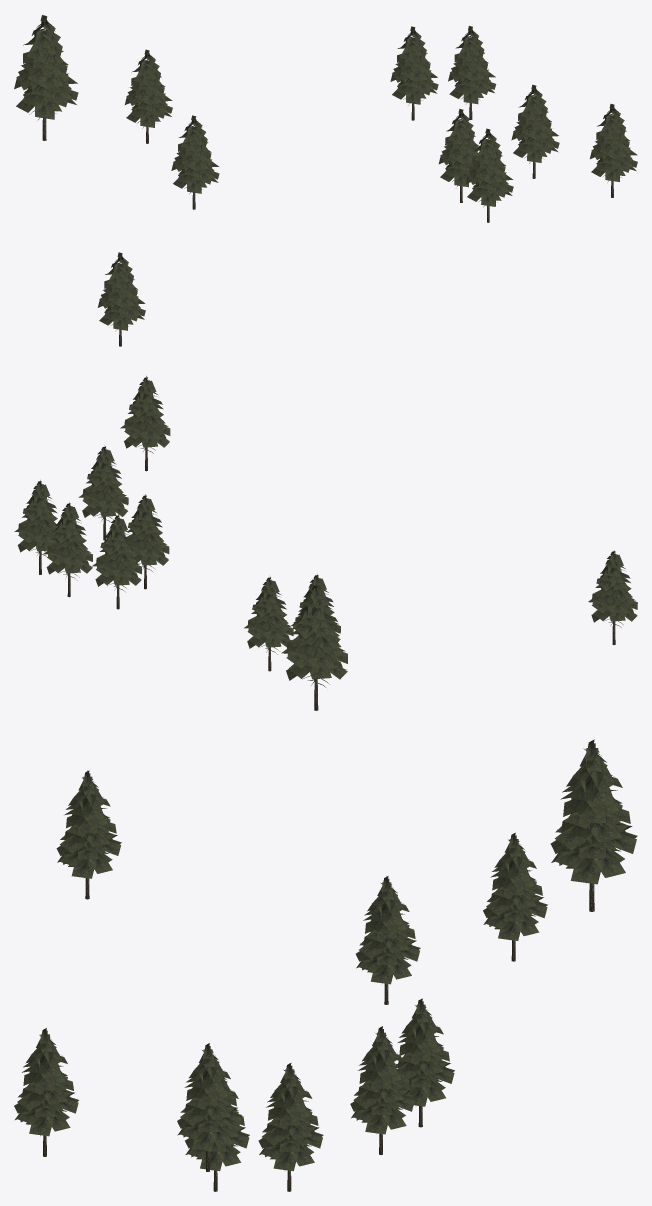
Rendered from Tree 14A.fbx.
The picture shows the model from 3 angles, top to bottom: view 1: azimuth 30°, elevation 25°; view 2: azimuth 150°, elevation 25°; view 3: azimuth 270°, elevation 25°; orthographic projection. The views are drawn at different scales.
Visible parts, largest first — view 1: Tree14A_leafs_1, Tree14A_leafs_6, Tree14A_leafs_2, Tree14A_leafs_7, Tree14A_leafs_5, Tree14A_leafs_9, Tree14A_leafs_3, Tree14A_leafs_4, Tree14A_leafs, Tree14A_leafs_8, Tree14A_leafs_flip_1; view 2: Tree14A_leafs_1, Tree14A_leafs_5, Tree14A_leafs_8, Tree14A_leafs_4, Tree14A_leafs, Tree14A_leafs_7, Tree14A_leafs_2, Tree14A_leafs_6, Tree14A_leafs_9, Tree14A_leafs_flip_1, Tree14A_leafs_3; view 3: Tree14A_leafs_1, Tree14A_leafs_8, Tree14A_leafs_5, Tree14A_leafs_3, Tree14A_leafs_2, Tree14A_leafs, Tree14A_leafs_6, Tree14A_leafs_4, Tree14A_leafs_7, Tree14A_leafs_9, Tree14A_leafs_flip_1, Tree14A_leafs_flip_8 (+5 smaller).
Boxes of the visible parts, x1,y1,x2,y2 form: Tree14A_leafs_1: [14, 15, 78, 119]; Tree14A_leafs_6: [448, 26, 496, 104]; Tree14A_leafs_2: [125, 49, 172, 127]; Tree14A_leafs_7: [390, 26, 438, 104]; Tree14A_leafs_5: [511, 85, 559, 162]; Tree14A_leafs_9: [465, 128, 513, 206]; Tree14A_leafs_3: [171, 115, 219, 193]; Tree14A_leafs_4: [590, 104, 637, 181]; Tree14A_leafs: [97, 252, 145, 330]; Tree14A_leafs_8: [438, 108, 478, 187]; Tree14A_leafs_flip_1: [15, 15, 77, 119]; Tree14A_leafs_1: [281, 587, 347, 680]; Tree14A_leafs_5: [78, 448, 128, 517]; Tree14A_leafs_8: [92, 517, 141, 586]; Tree14A_leafs_4: [120, 379, 170, 448]; Tree14A_leafs: [588, 553, 637, 622]; Tree14A_leafs_7: [43, 505, 92, 574]; Tree14A_leafs_2: [244, 579, 293, 648]; Tree14A_leafs_6: [14, 483, 57, 552]; Tree14A_leafs_9: [127, 497, 169, 565]; Tree14A_leafs_flip_1: [283, 584, 347, 679]; Tree14A_leafs_3: [291, 577, 340, 642]; Tree14A_leafs_1: [550, 743, 637, 884]; Tree14A_leafs_8: [258, 1065, 323, 1171]; Tree14A_leafs_5: [177, 1046, 241, 1151]; Tree14A_leafs_3: [356, 878, 420, 984]; Tree14A_leafs_2: [483, 835, 547, 940]; Tree14A_leafs: [56, 773, 121, 878]; Tree14A_leafs_6: [350, 1029, 414, 1134]; Tree14A_leafs_4: [14, 1030, 78, 1136]; Tree14A_leafs_7: [395, 1001, 454, 1106]; Tree14A_leafs_9: [185, 1078, 249, 1171]; Tree14A_leafs_flip_1: [552, 739, 636, 876]; Tree14A_leafs_flip_8: [260, 1063, 321, 1164].
Size of the model in its own units: 10431 by 3494 by 7966.
